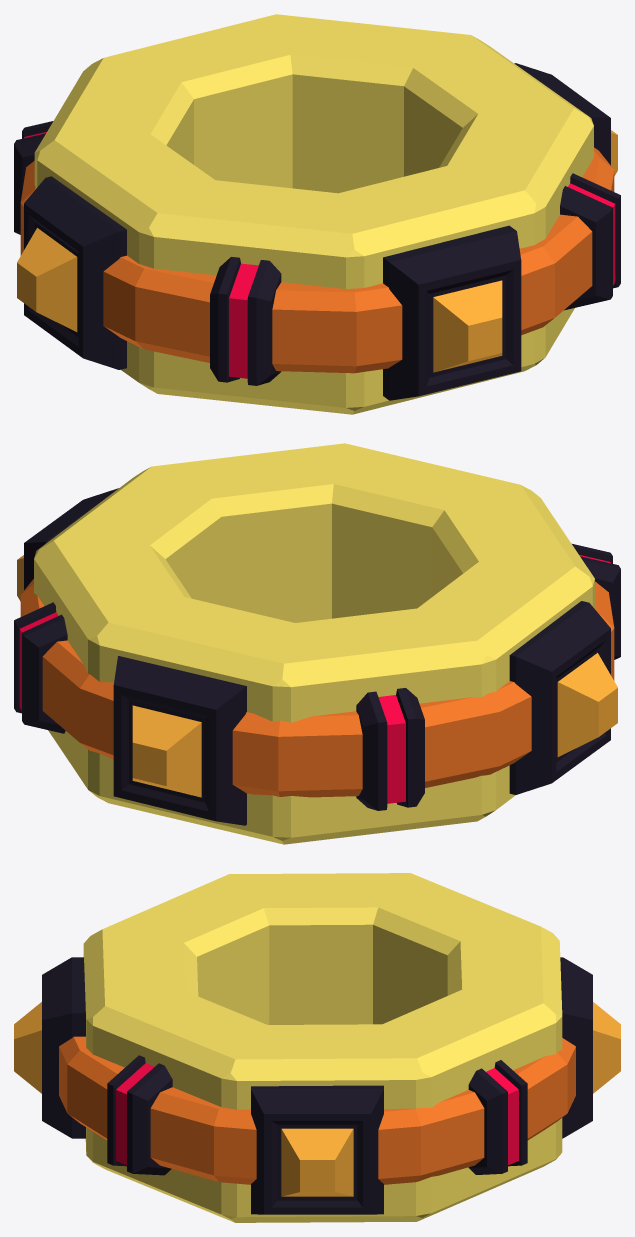
Rendered from Yellow.fbx.
The picture shows the model from 3 angles, top to bottom: view 1: azimuth 30°, elevation 25°; view 2: azimuth 150°, elevation 25°; view 3: azimuth 270°, elevation 25°; orthographic projection. The views are drawn at different scales.
Parts seen in each view (by area): view 1: Ring.010; view 2: Ring.010; view 3: Ring.010.
Boxes of the visible parts, <box> form: Ring.010: <box>14,14,620,414</box>; Ring.010: <box>14,443,620,844</box>; Ring.010: <box>14,873,620,1222</box>.
Bounding box in the file's own units: 1.6 × 1.6 × 0.4745.
Materials: 1 (1 with a texture image).
